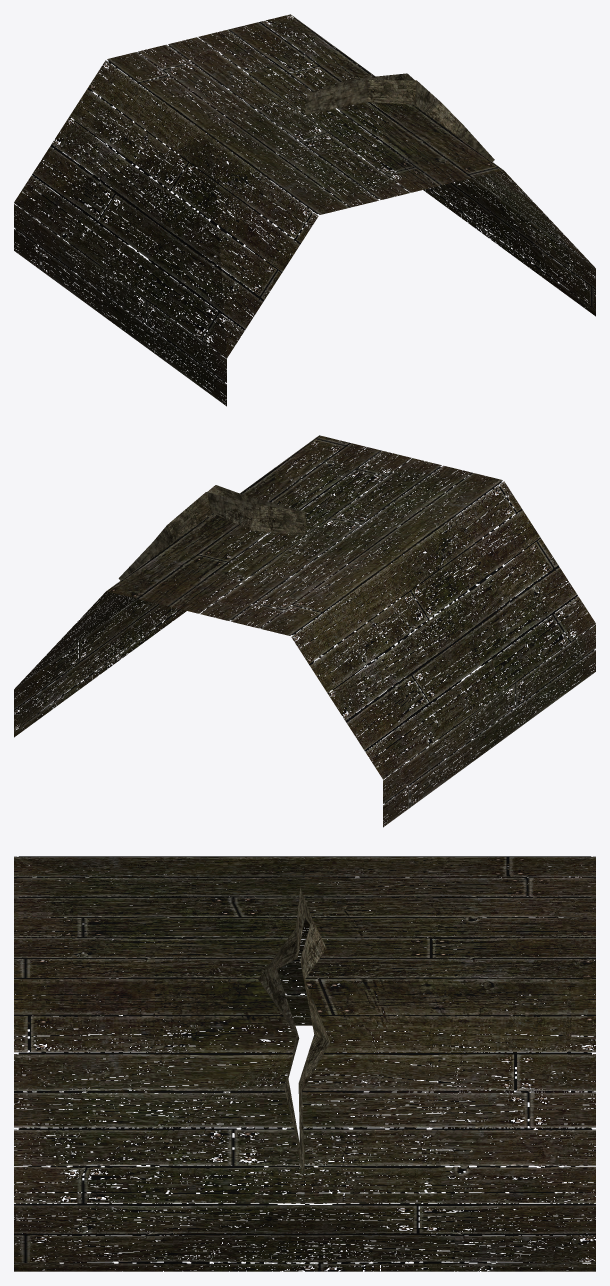
File: arched_wooden_roof_damage02.dae
3 views of the same model, one above another, from view 1: azimuth 30°, elevation 25°; view 2: azimuth 150°, elevation 25°; view 3: azimuth 270°, elevation 25° (orthographic). The views are drawn at different scales.
Visible parts, largest first — view 1: polySurface132, polySurface133; view 2: polySurface132, polySurface133; view 3: polySurface132, polySurface133.
Part boxes in pixels (box(x1,y1,x2,y2)): polySurface132: box(14, 14, 595, 406); polySurface133: box(305, 73, 494, 161); polySurface132: box(14, 435, 595, 827); polySurface133: box(118, 485, 306, 594); polySurface132: box(14, 856, 595, 1271); polySurface133: box(258, 888, 330, 1173).
Bounding box in the file's own units: 4.04 × 1.98 × 4.
